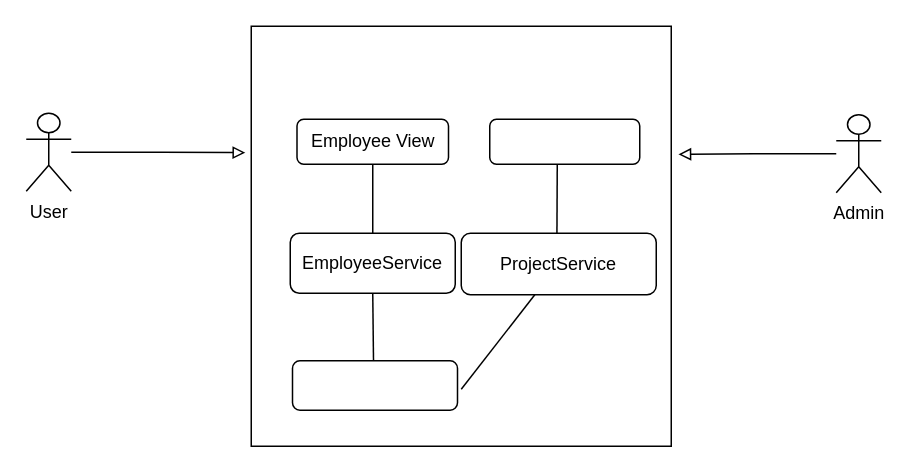
The diagram is 911 pixels wide and 473 high, and some of its shapes have lost their labels. Here are the shapes that lost their labels. From the top down, the box of each, then its label:
(488, 118, 640, 164): Project View
(291, 359, 458, 410): Database
